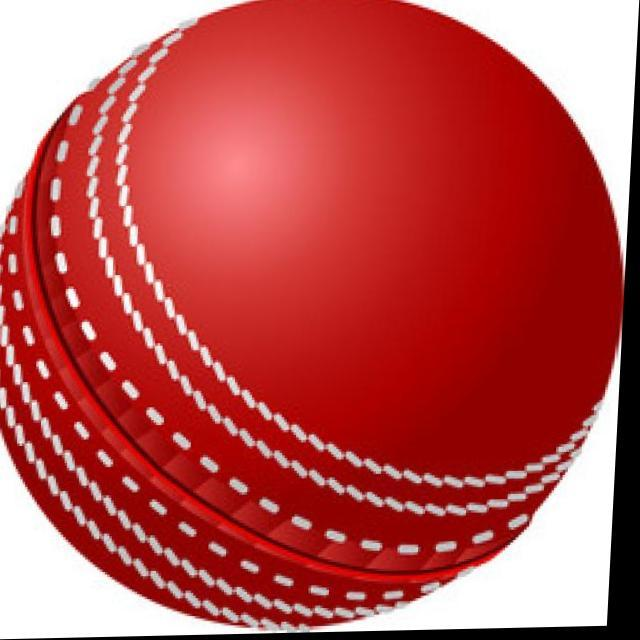cricket ball: (0, 0, 624, 631)
